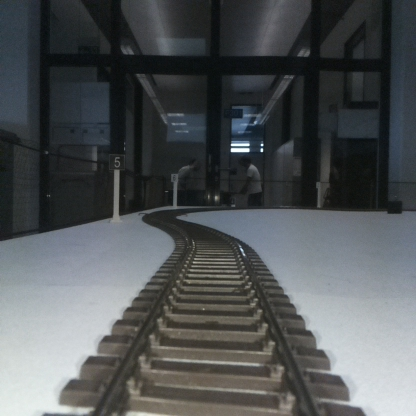black-info-5: (109, 154, 125, 221)
white-info-6: (171, 172, 177, 208)
